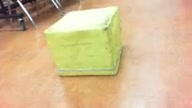cube: (44, 5, 123, 77)
